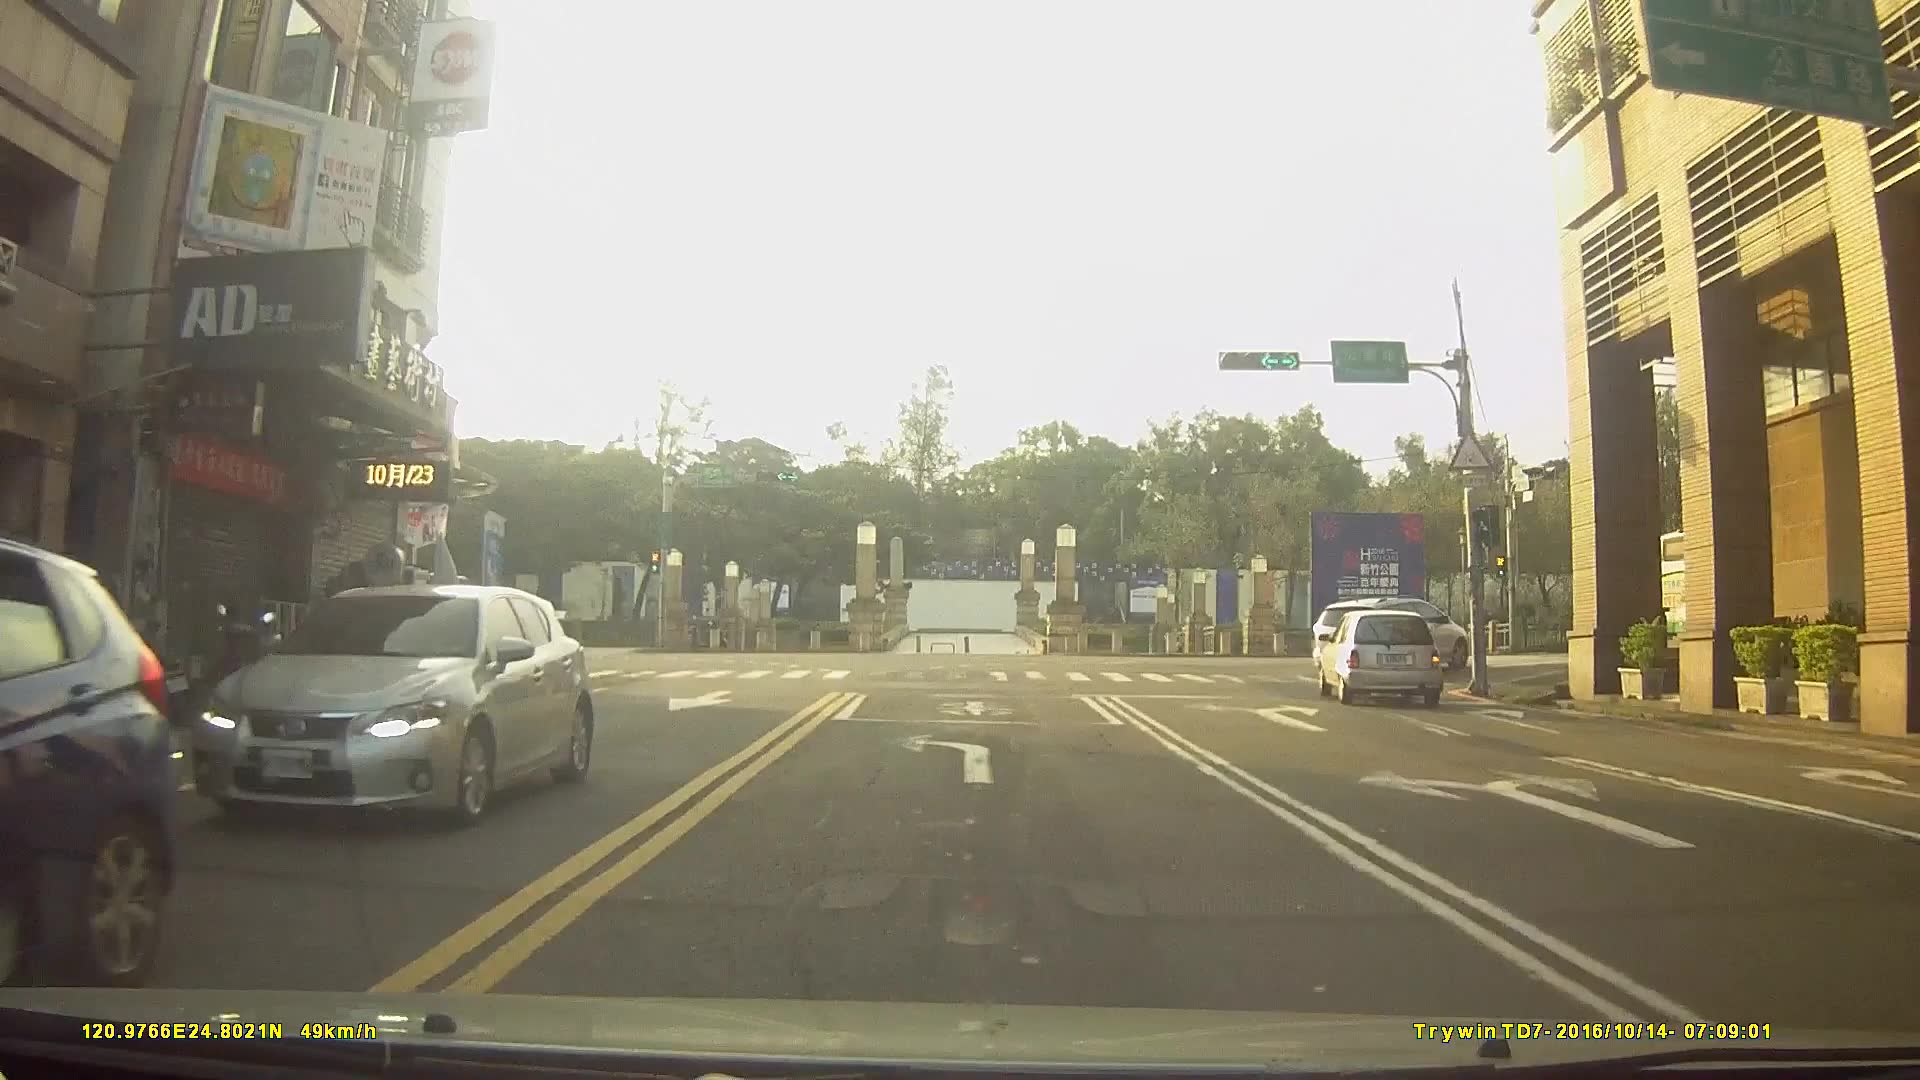vehicle: (190, 582, 591, 824), (0, 534, 179, 998), (1311, 593, 1468, 675), (1315, 609, 1443, 705)
